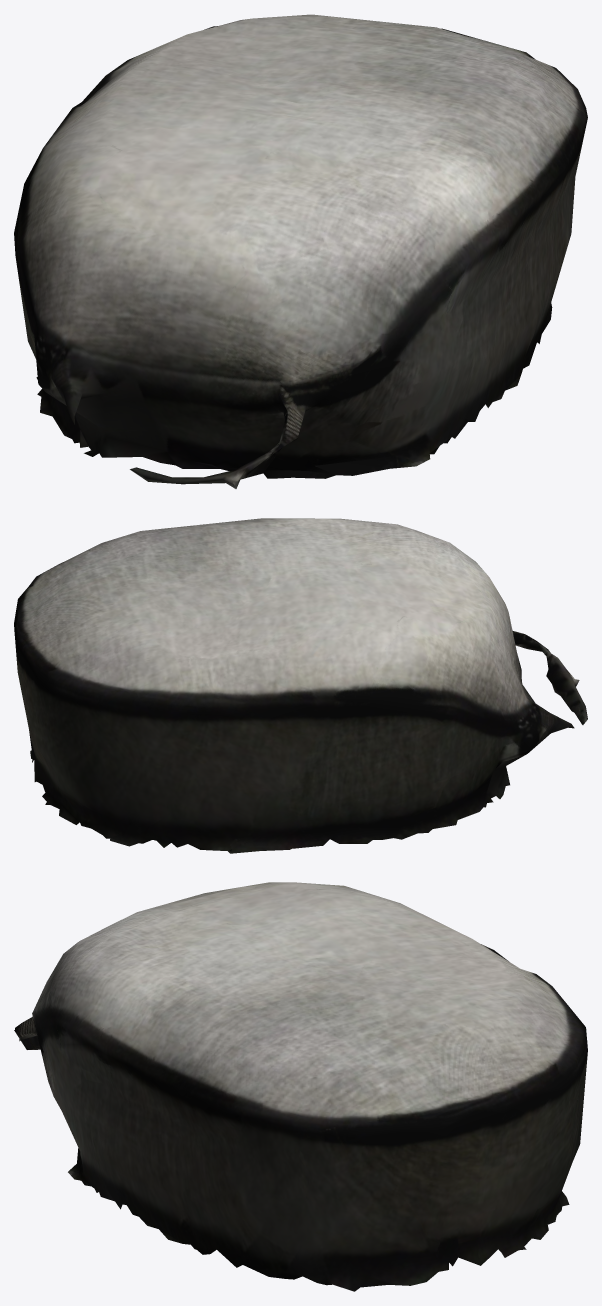
Rendered from case.fbx.
3 renders of one model, top to bottom at view 1: azimuth 30°, elevation 25°; view 2: azimuth 150°, elevation 25°; view 3: azimuth 270°, elevation 25°, orthographic. The views are drawn at different scales.
Parts seen in each view (by area): view 1: ProcessedMeshNode_LOD1; view 2: ProcessedMeshNode_LOD1; view 3: ProcessedMeshNode_LOD1.
Boxes of the visible parts, x1,y1,x2,y2 form: ProcessedMeshNode_LOD1: (14,14,587,488); ProcessedMeshNode_LOD1: (14,518,587,853); ProcessedMeshNode_LOD1: (14,882,587,1291).
Size of the model in its own units: 103 by 43.75 by 98.14.
1 material, 1 textured.
